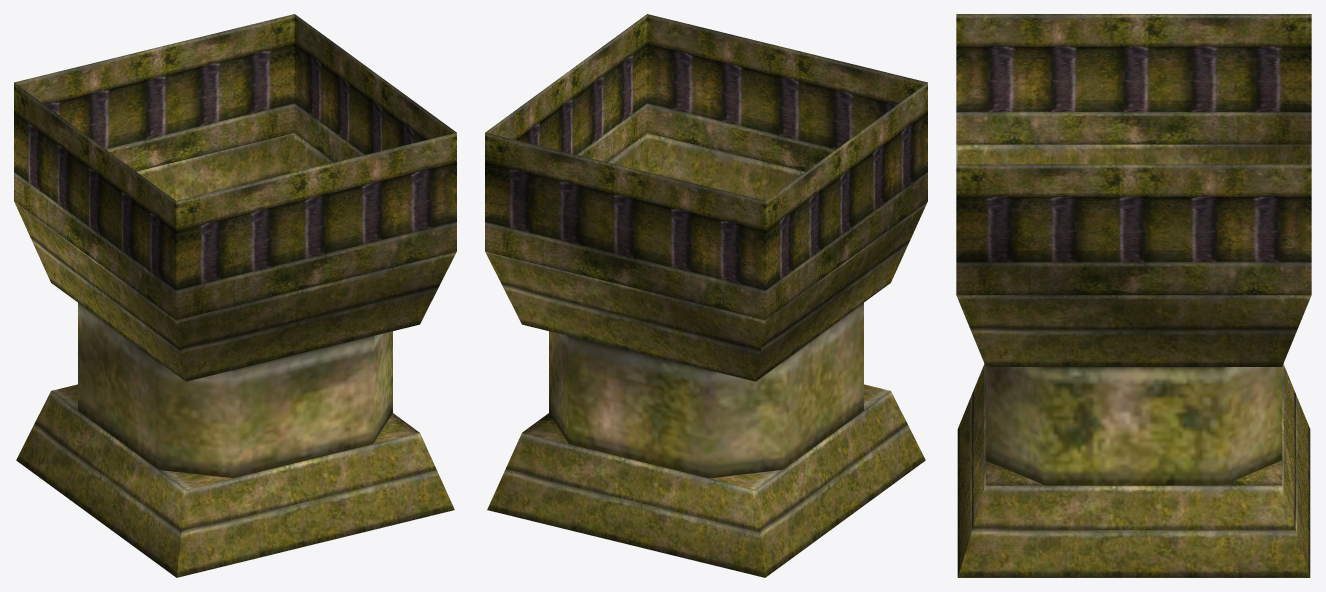
The model's file is OVERHILL_A_01_OBJECT113.fbx.
3 views of the same model, side by side, from view 1: azimuth 30°, elevation 25°; view 2: azimuth 150°, elevation 25°; view 3: azimuth 270°, elevation 25° (orthographic). The views are drawn at different scales.
Parts seen in each view (by area): view 1: OVERHILL_A_01_OBJECT113; view 2: OVERHILL_A_01_OBJECT113; view 3: OVERHILL_A_01_OBJECT113.
Part boxes in pixels (box(x1,y1,x2,y2)): OVERHILL_A_01_OBJECT113: box(14, 14, 456, 577); OVERHILL_A_01_OBJECT113: box(485, 14, 927, 577); OVERHILL_A_01_OBJECT113: box(956, 14, 1311, 577).
Size of the model in its own units: 18045 by 23204 by 18045.
Materials: 4 (4 with a texture image).
